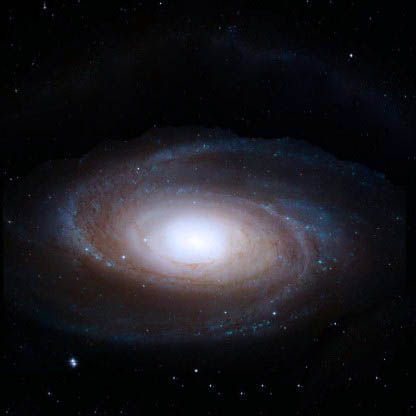Messier 81: (32, 125, 398, 381)
